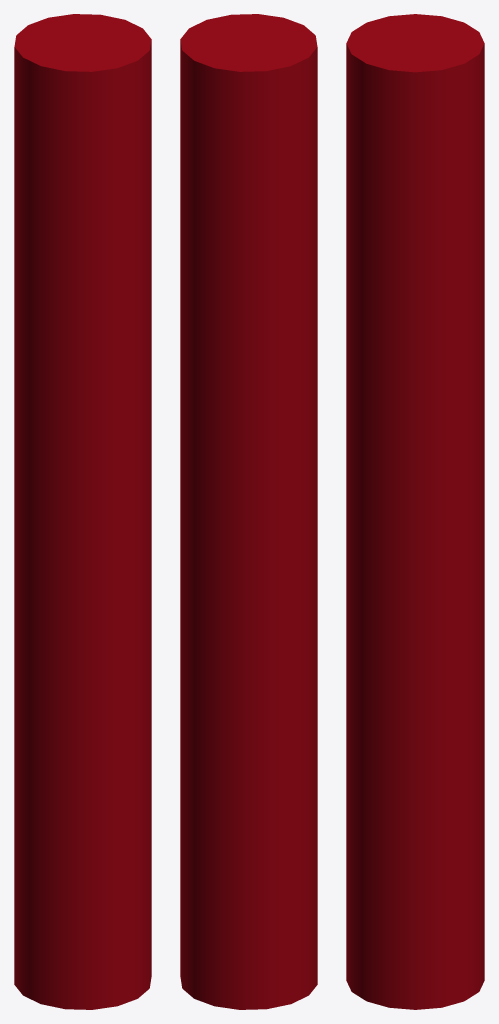
The model's file is Rod.fbx.
The picture shows the model from 3 angles, left to right: view 1: azimuth 30°, elevation 25°; view 2: azimuth 150°, elevation 25°; view 3: azimuth 270°, elevation 25°; orthographic projection.
Visible parts, largest first — view 1: part; view 2: part; view 3: part.
Boxes of the visible parts, left/top/right/bottom form: part: left=14, top=14, right=151, bottom=1009; part: left=180, top=14, right=317, bottom=1009; part: left=346, top=14, right=484, bottom=1009.
Size of the model in its own units: 3.2 by 3.2 by 23.96.
